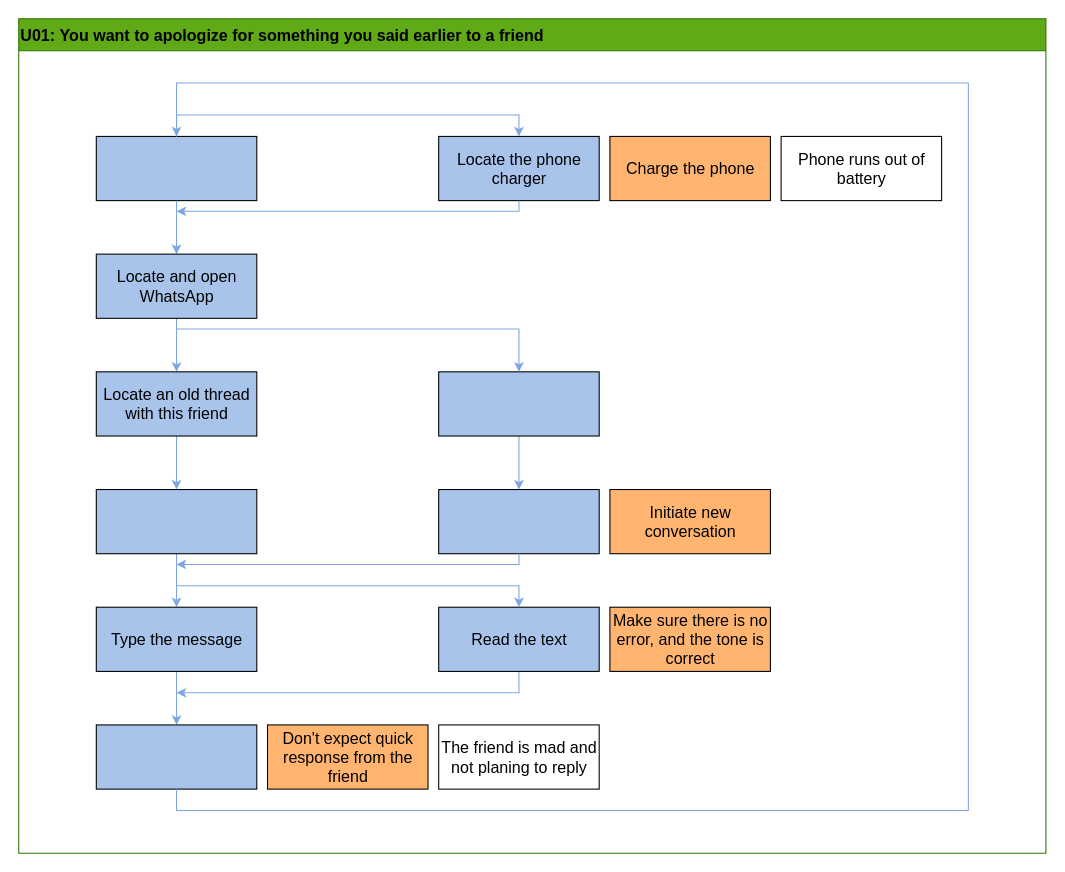
This 1065x872 diagram has some shape labels left out. The shapes that lost their labels are listed below. From the top down, each one's box as (x1, y1, x2, y2) in pixels, then its label:
(95, 135, 257, 201): Find the phone
(438, 371, 599, 436): Locate this friend from contacts list
(95, 488, 257, 554): Open the thread
(438, 488, 599, 554): Create a new thread with this friend
(95, 724, 257, 789): Put away the phone
